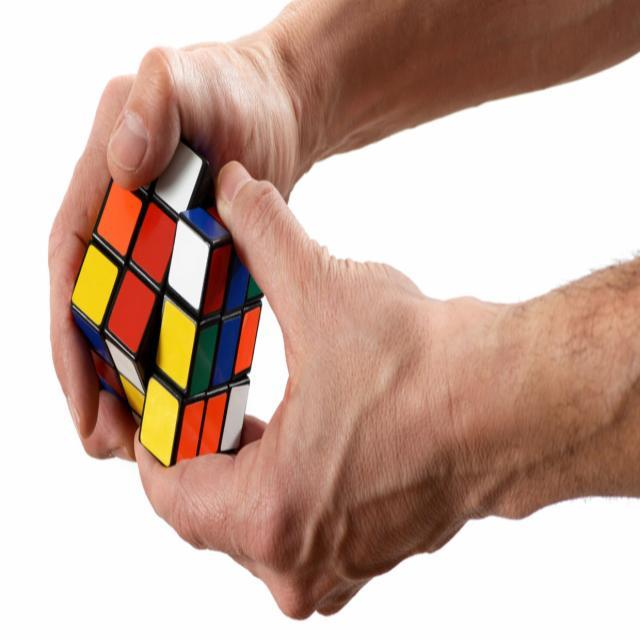Rub: (66, 128, 276, 464)
